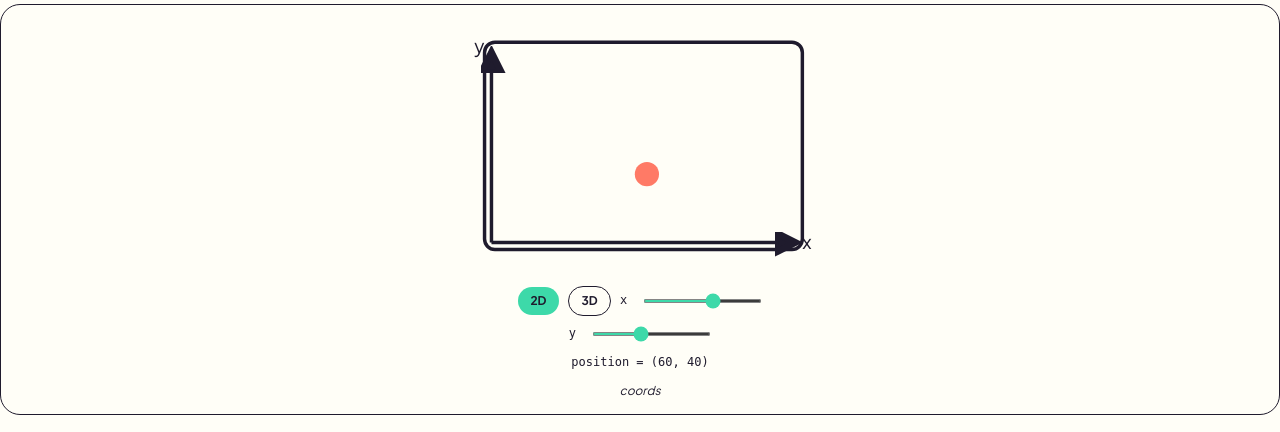
Test case: HelpDiagram › coords-explorer responds: toggling 3D reveals the z control + a z readout
Expected: the text "position = (60, 40)" is shown, [571,353,709,372]
Click the button "3D" at (590, 301), box [568,286,611,316]
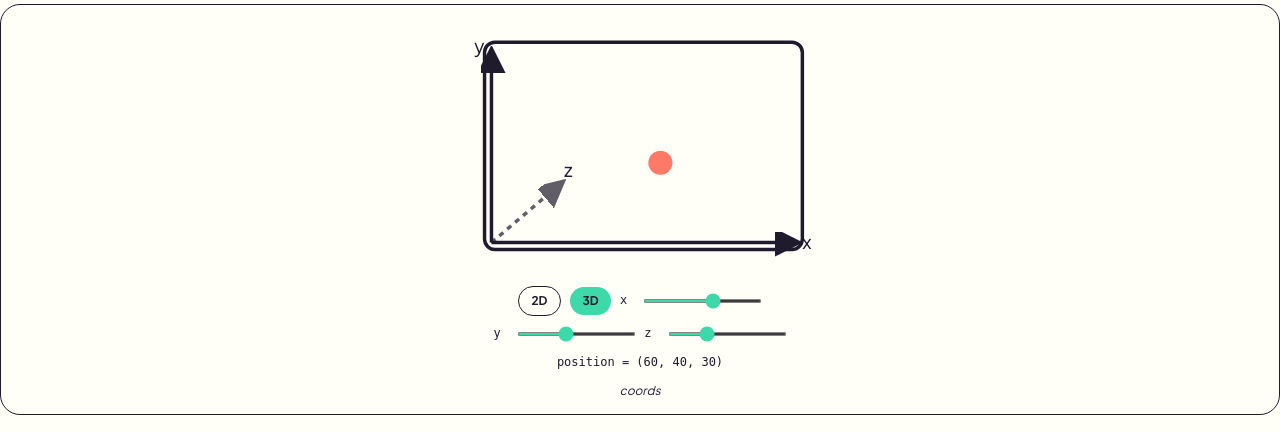
Expected: the text "position = (60, 40, 30)" is shown, [557,353,723,372]
